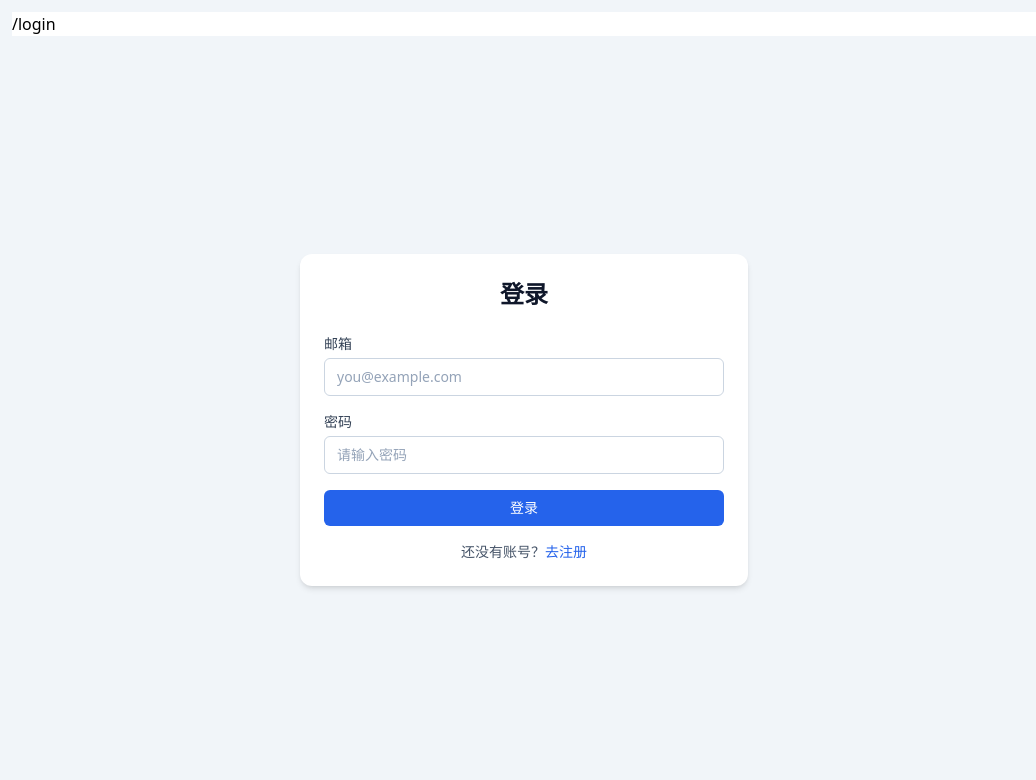
Test: LoginPage › 密码错误时显示后端错误信息且不导航
The width and height of the screenshot is (1036, 780).
Type "test@example.com" into the field labelled "邮箱" at (524, 377), box [324,358,724,396]
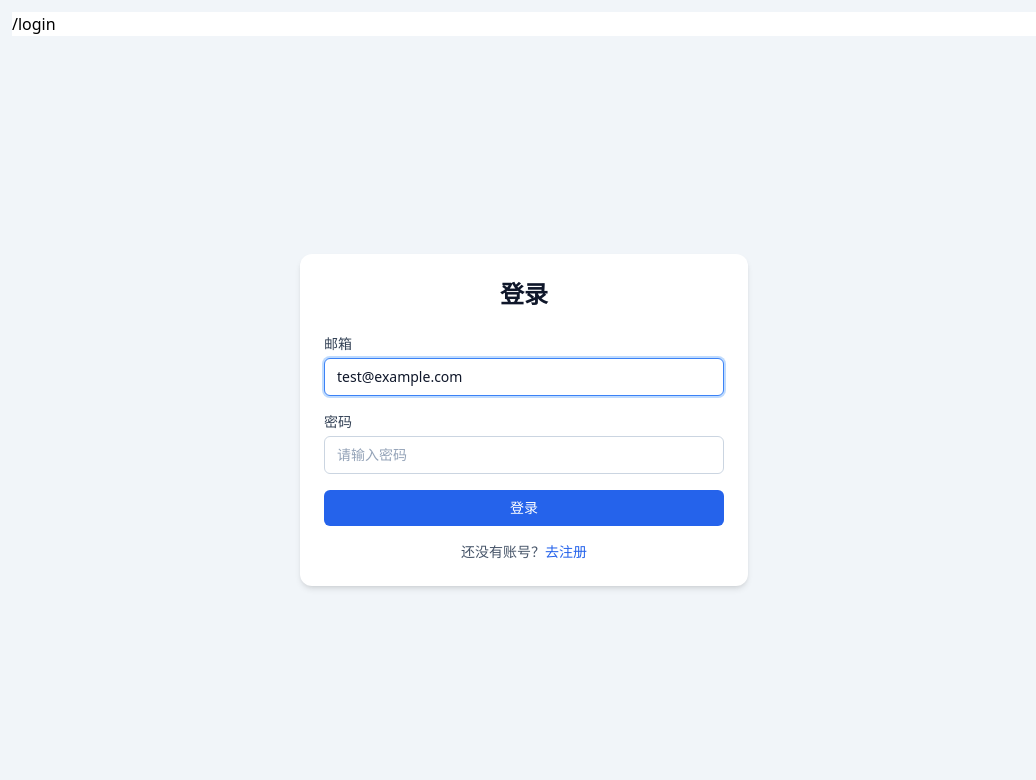
Type "wrong-password" into the password field labelled "密码" at (524, 455), box [324,436,724,474]
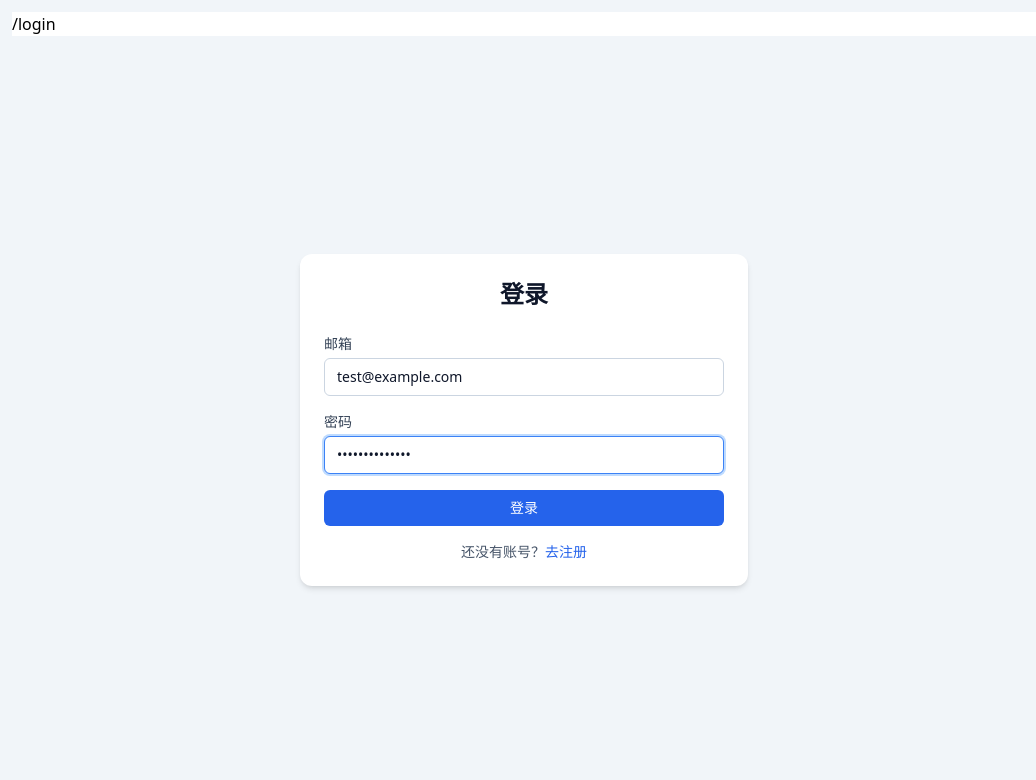
Click the button "登录" at (524, 508), box [324,490,724,526]
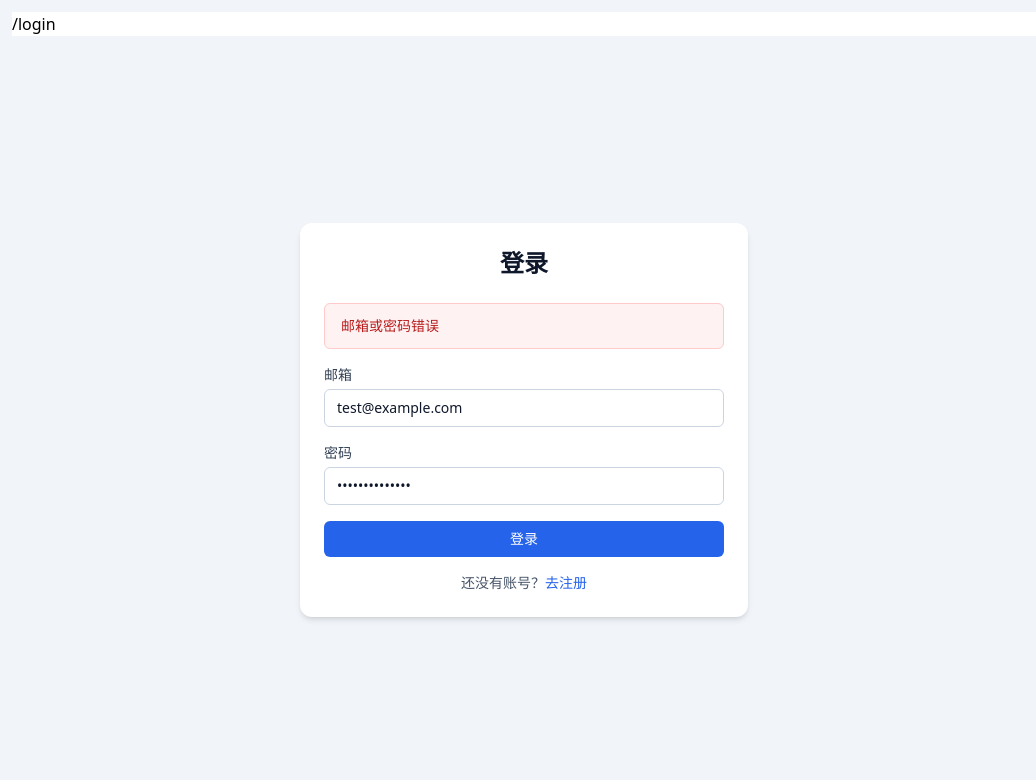
Check: the text with test id "location" reads "/login", box [12,13,56,35]
Check: the text "邮箱或密码错误" is shown, box [341,316,439,335]
